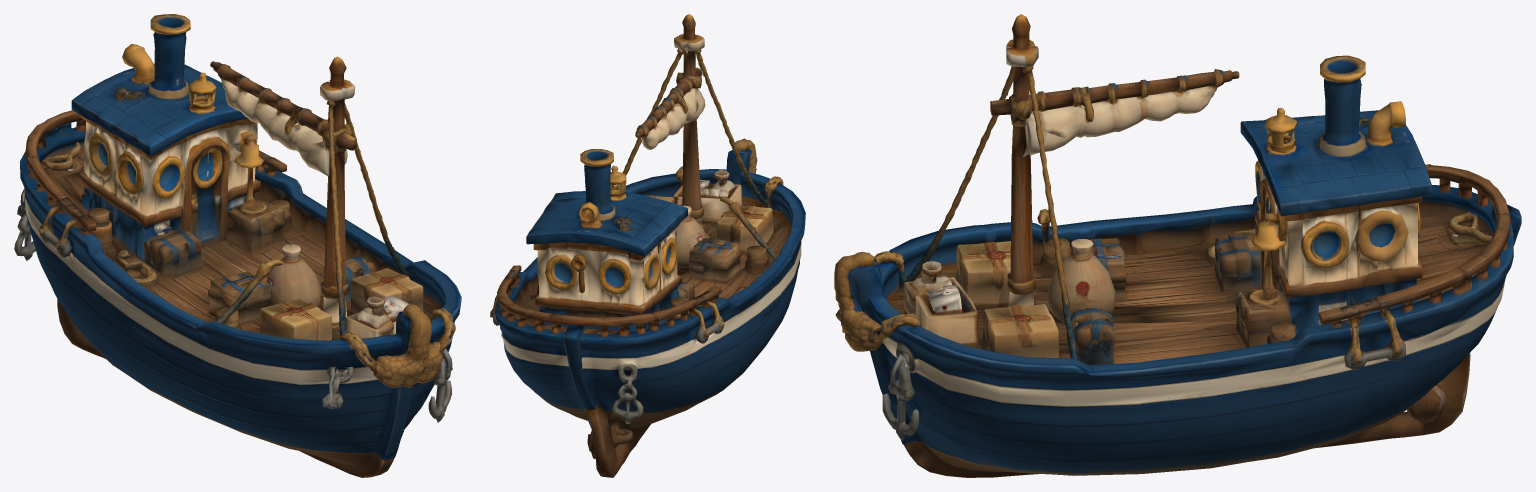
The model's file is mail_boat.glb.
3 renders of one model, left to right at view 1: azimuth 30°, elevation 25°; view 2: azimuth 150°, elevation 25°; view 3: azimuth 270°, elevation 25°, orthographic. The views are drawn at different scales.
Visible parts, largest first — view 1: tripo_node_d9a42af0-1704-4a99-82c6-7ae28ad7850b; view 2: tripo_node_d9a42af0-1704-4a99-82c6-7ae28ad7850b; view 3: tripo_node_d9a42af0-1704-4a99-82c6-7ae28ad7850b.
Boxes of the visible parts, x1,y1,x2,y2 form: tripo_node_d9a42af0-1704-4a99-82c6-7ae28ad7850b: (14, 14, 461, 477); tripo_node_d9a42af0-1704-4a99-82c6-7ae28ad7850b: (490, 14, 805, 477); tripo_node_d9a42af0-1704-4a99-82c6-7ae28ad7850b: (834, 14, 1521, 477).
Bounding box in the file's own units: 0.5223 × 0.7328 × 0.9778.
1 material, 1 textured.
